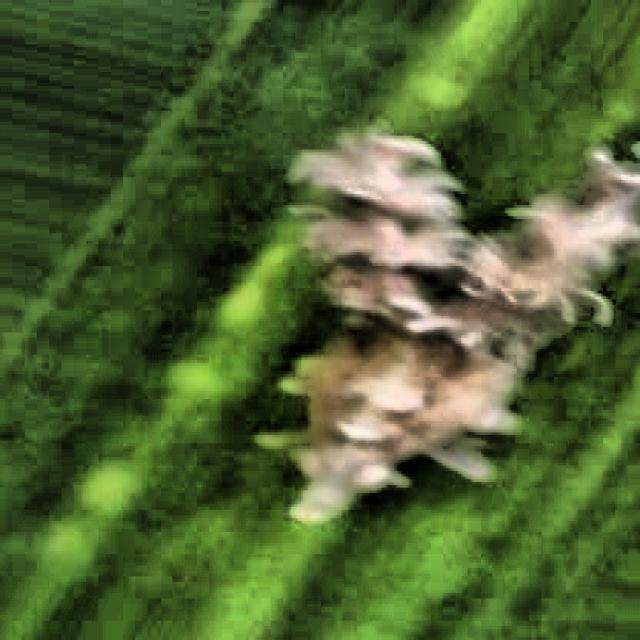Pyrilla-perpusilla: (225, 81, 640, 598)
